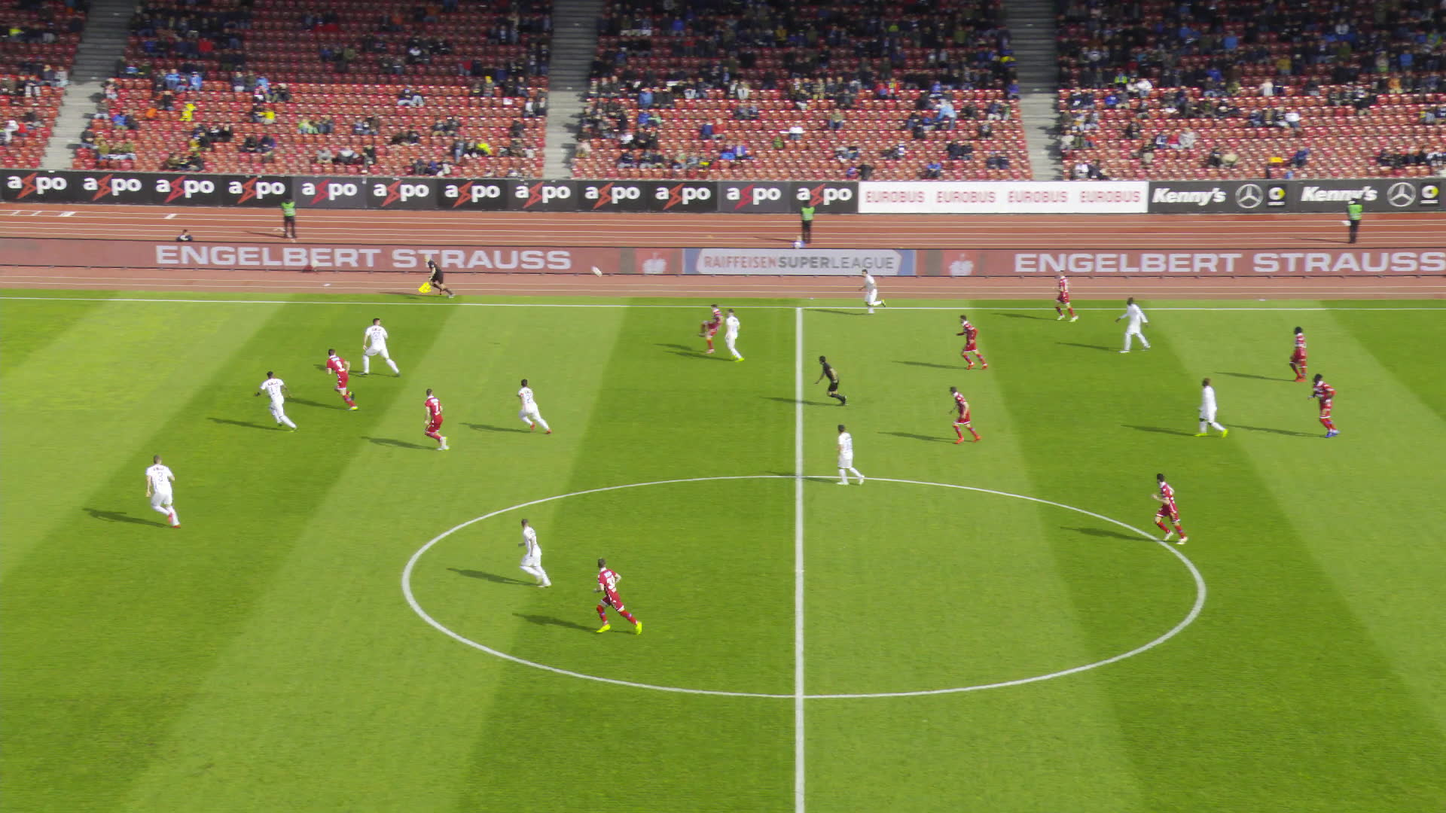ball: (593, 268, 599, 274)
player: (593, 557, 642, 638), (252, 370, 299, 434), (1150, 471, 1191, 542), (145, 452, 182, 529), (514, 517, 551, 589), (358, 318, 401, 379), (1192, 376, 1231, 442), (322, 347, 359, 412), (831, 420, 866, 488), (512, 376, 552, 434), (946, 385, 982, 445), (1308, 371, 1340, 438), (1115, 297, 1152, 353), (420, 386, 451, 451), (953, 314, 987, 371), (1053, 269, 1081, 323), (697, 303, 725, 355), (857, 268, 887, 314), (1288, 323, 1309, 383), (721, 308, 744, 362)
referee: (812, 352, 848, 407), (418, 254, 454, 304)
